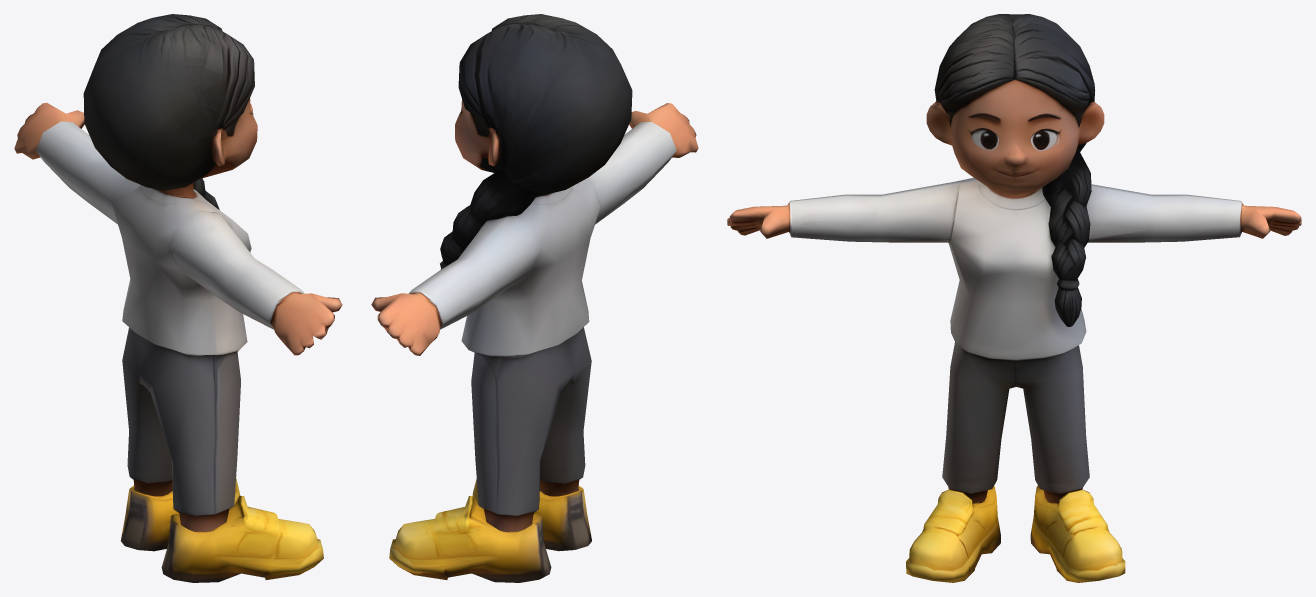
The picture shows the model from 3 angles, left to right: view 1: azimuth 30°, elevation 25°; view 2: azimuth 150°, elevation 25°; view 3: azimuth 270°, elevation 25°; orthographic projection. The views are drawn at different scales.
Parts seen in each view (by area): view 1: tripo_node_192baca5-c51f-4ec6-800e-fa474ab1eeed; view 2: tripo_node_192baca5-c51f-4ec6-800e-fa474ab1eeed; view 3: tripo_node_192baca5-c51f-4ec6-800e-fa474ab1eeed.
Boxes of the visible parts, x1,y1,x2,y2 form: tripo_node_192baca5-c51f-4ec6-800e-fa474ab1eeed: (14, 14, 342, 582); tripo_node_192baca5-c51f-4ec6-800e-fa474ab1eeed: (371, 14, 698, 582); tripo_node_192baca5-c51f-4ec6-800e-fa474ab1eeed: (727, 14, 1301, 582).
Bounding box in the file's own units: 0.3579 × 0.9927 × 0.9995.
Materials: 1 (1 with a texture image).
